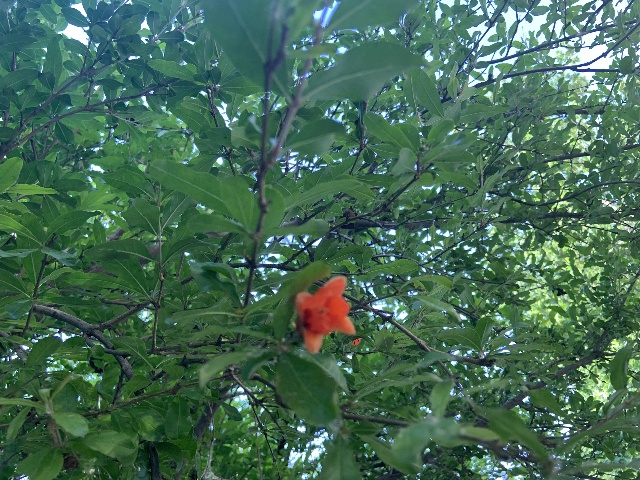flower: (294, 276, 357, 355)
